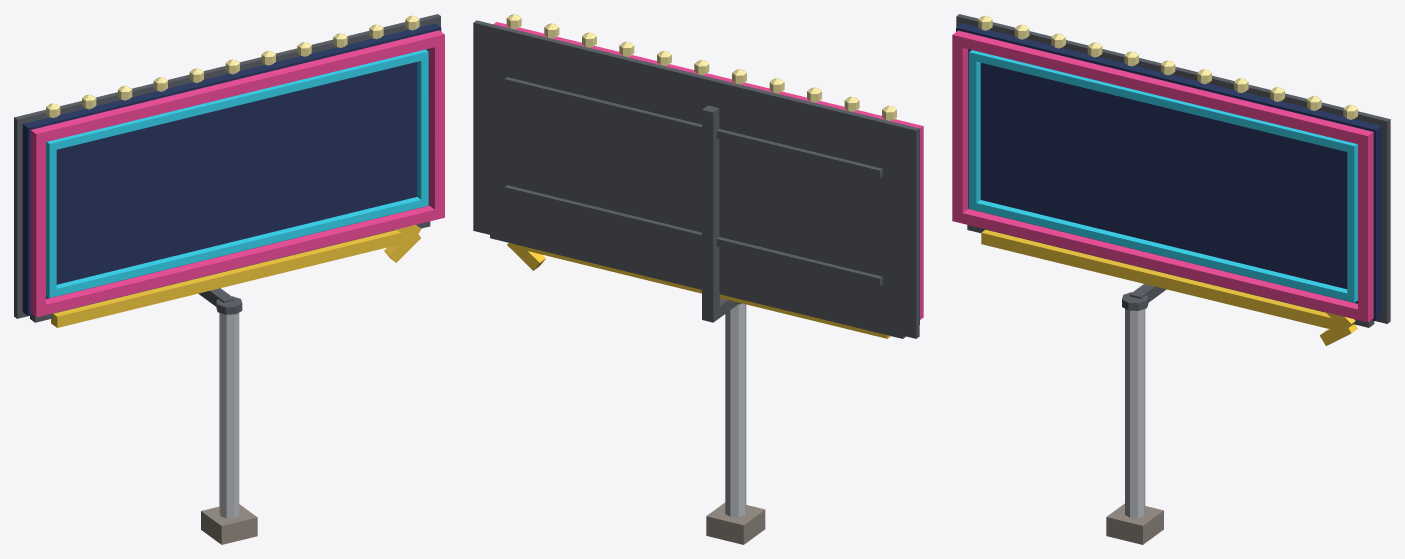
File: signboard.glb
3 renders of one model, left to right at view 1: azimuth 30°, elevation 25°; view 2: azimuth 150°, elevation 25°; view 3: azimuth 330°, elevation 25°, orthographic. The views are drawn at different scales.
Visible parts, largest first — view 1: signboard; view 2: signboard; view 3: signboard.
Part boxes in pixels (left/top/right/bottom): signboard: left=14, top=14, right=444, bottom=544; signboard: left=473, top=14, right=923, bottom=544; signboard: left=952, top=14, right=1390, bottom=544.
Bounding box in the file's own units: 4.72 × 4.88 × 0.72.
Materials: 1 (1 with a texture image).
